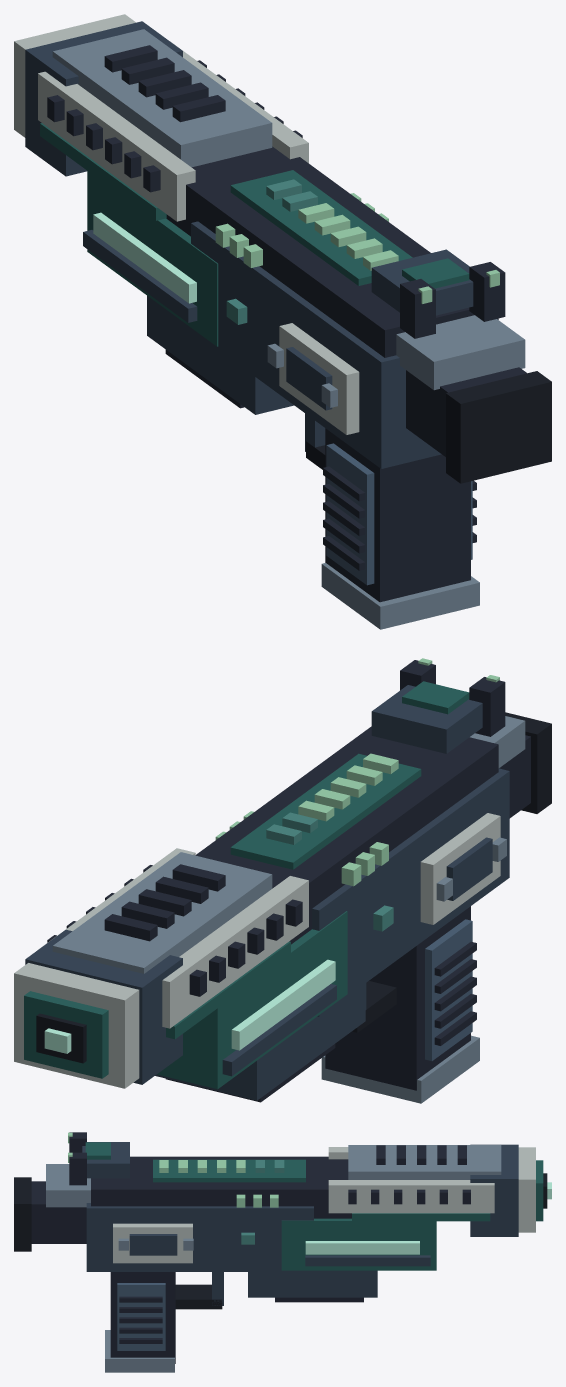
File: pulse_repeater.glb
The picture shows the model from 3 angles, top to bottom: view 1: azimuth 30°, elevation 25°; view 2: azimuth 150°, elevation 25°; view 3: azimuth 270°, elevation 25°; orthographic projection. The views are drawn at different scales.
Size of the model in its own units: 0.234 by 0.4535 by 1.03.
1 material, 1 textured.
